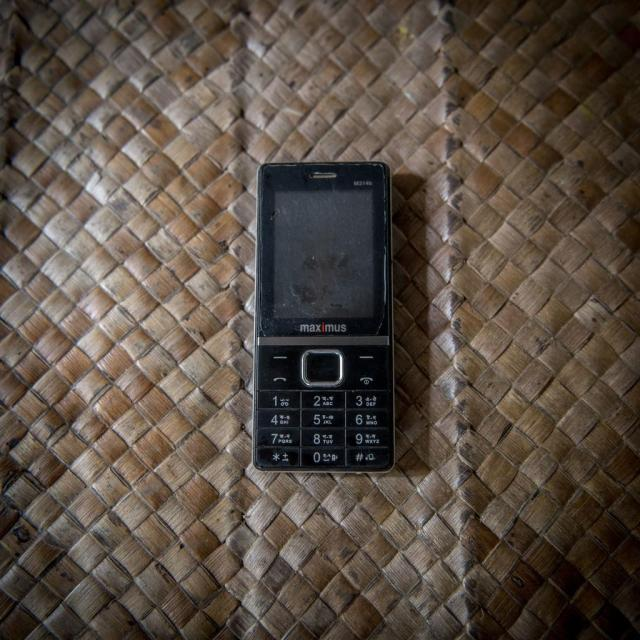Phone: (234, 153, 404, 481)
